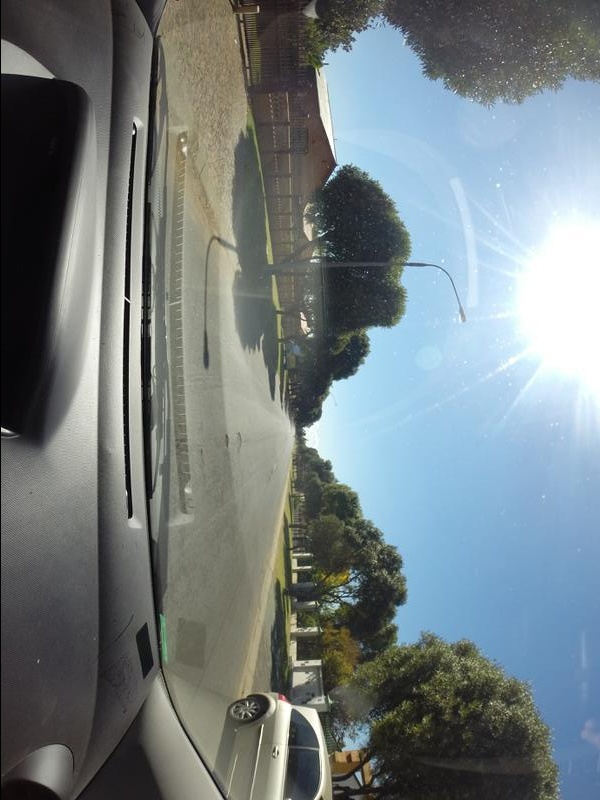pothole: (237, 431, 245, 458), (219, 435, 233, 449)
